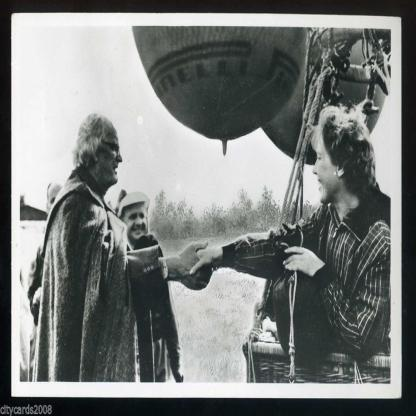face: (314, 140, 340, 203), (100, 120, 124, 184), (125, 202, 148, 241)
